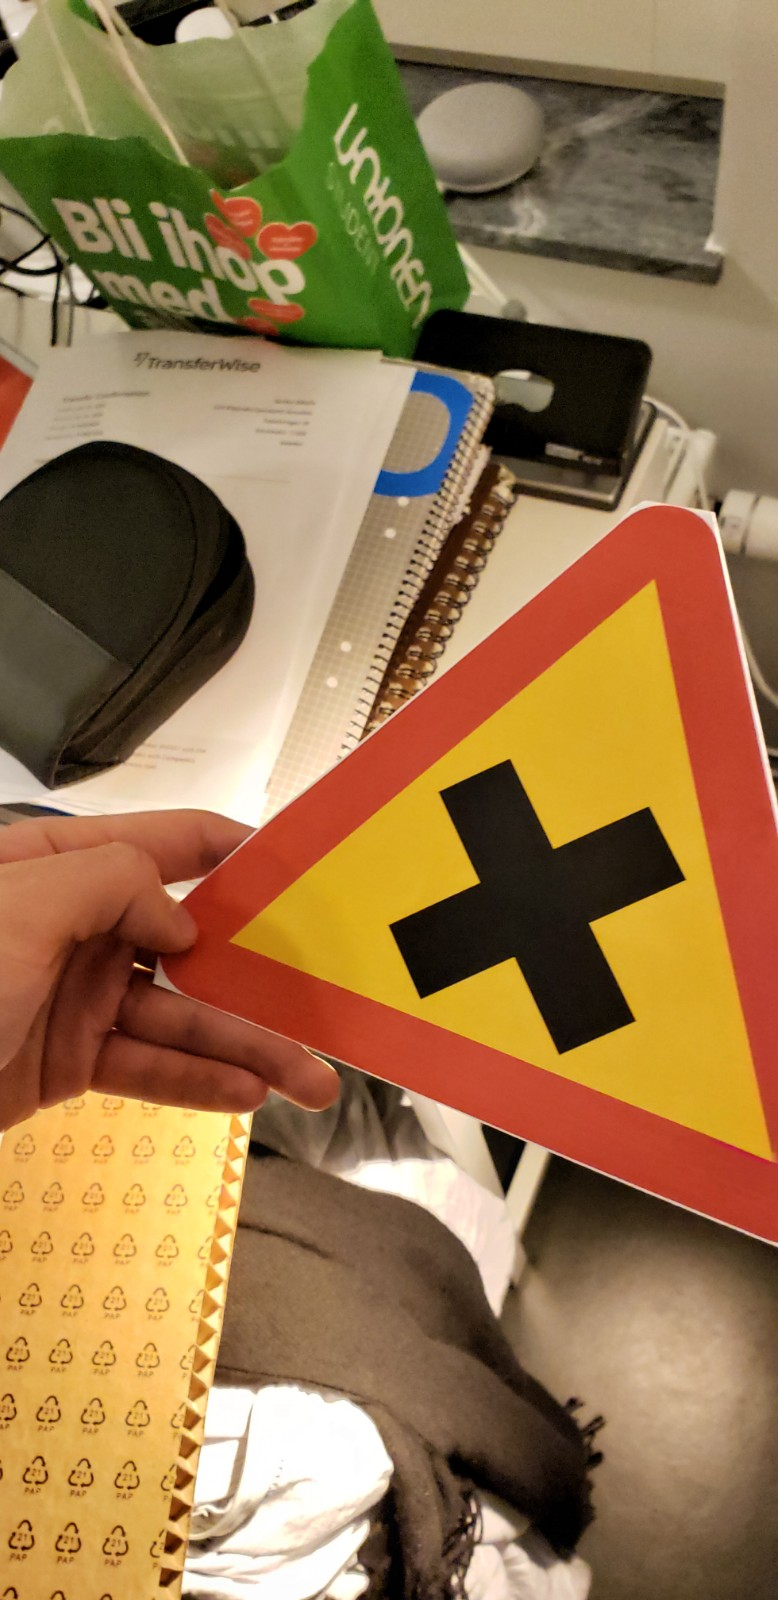junction: (121, 551, 778, 1237)
